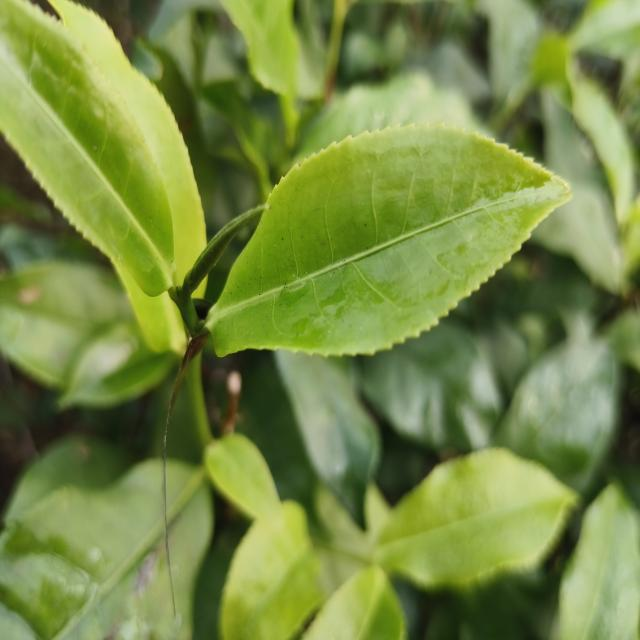Leaf: (207, 124, 569, 355), (0, 0, 178, 296), (48, 0, 207, 283), (0, 459, 213, 640), (374, 449, 577, 589), (494, 338, 619, 491), (275, 350, 380, 524), (360, 324, 501, 451), (295, 72, 488, 161), (0, 262, 132, 388), (219, 501, 325, 640), (557, 484, 640, 640), (220, 0, 298, 141), (59, 321, 176, 408), (569, 72, 634, 224), (301, 565, 406, 640), (204, 433, 280, 518), (118, 271, 185, 352), (570, 0, 640, 57)
